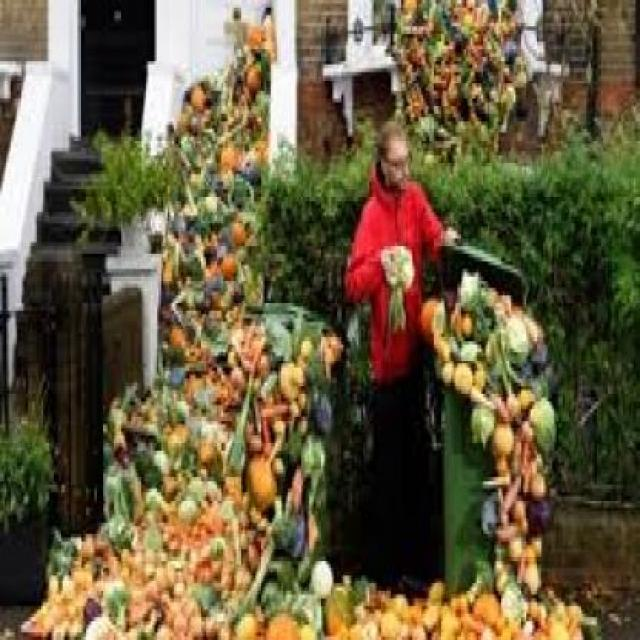garbage: (169, 20, 274, 637), (419, 273, 552, 572), (34, 391, 167, 634), (280, 308, 351, 637), (389, 0, 556, 128), (357, 561, 634, 636)
